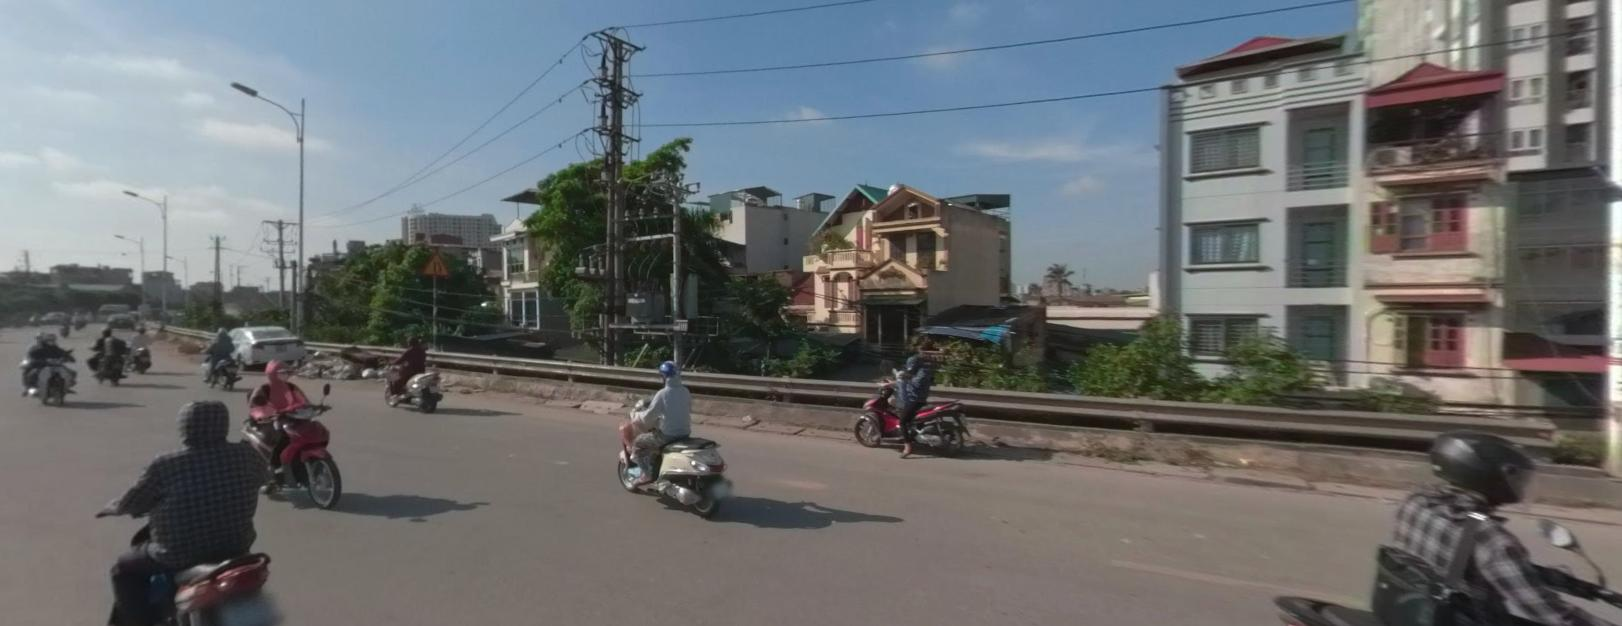Nguy hiem: (422, 250, 450, 276), (421, 250, 449, 274), (421, 251, 449, 274)
